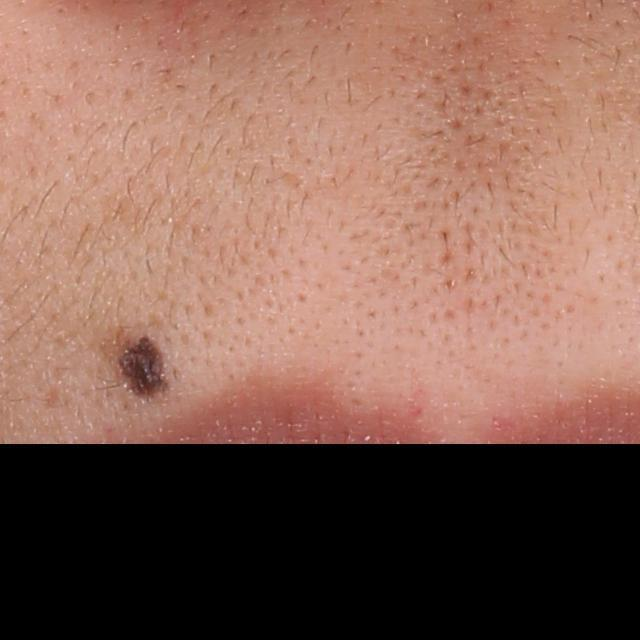nevus: (89, 324, 174, 404)
